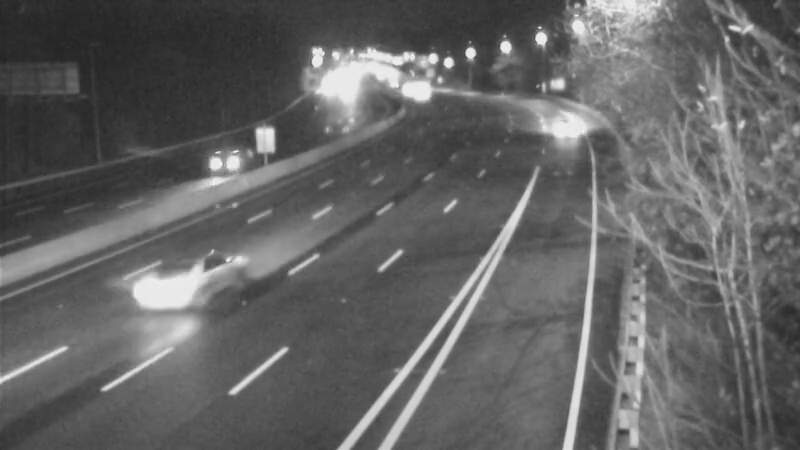vehicle: (130, 247, 210, 327), (179, 130, 259, 210), (396, 69, 446, 119), (539, 104, 589, 154)
